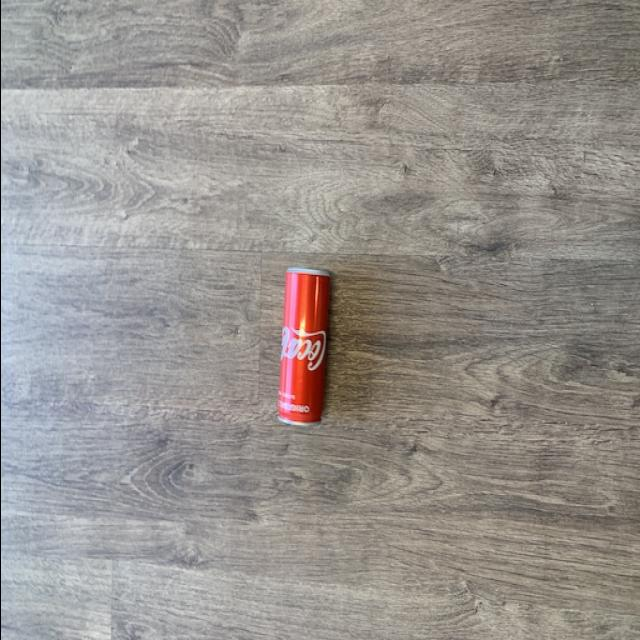Aluminum Can: (274, 264, 330, 428)
